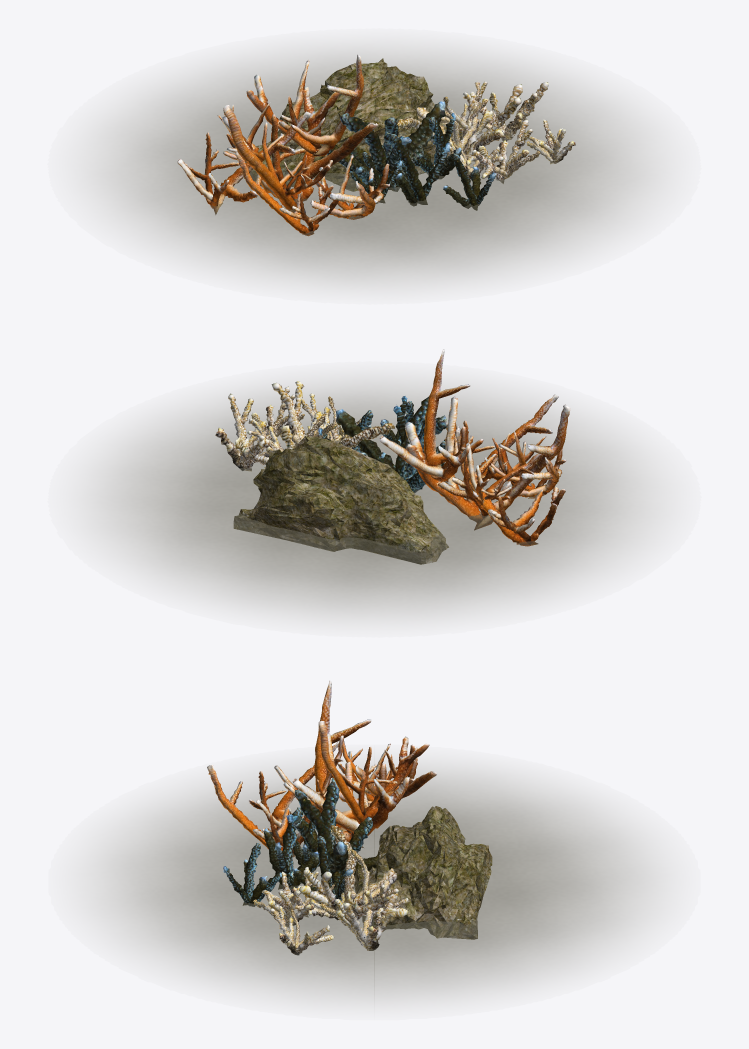
Rendered from acropora-muricata.glb.
The picture shows the model from 3 angles, top to bottom: view 1: azimuth 30°, elevation 25°; view 2: azimuth 150°, elevation 25°; view 3: azimuth 270°, elevation 25°; orthographic projection.
Parts seen in each view (by area): view 1: sand, colony_0, rock_rock3_hi, colony_1, colony_2, colony_3, colony_4, colony_5, colony_6, colony_11, colony_8, colony_7 (+3 smaller); view 2: sand, rock_rock3_hi, colony_0, colony_2, colony_3, colony_1, colony_10, colony_4, colony_5, colony_11, colony_12; view 3: sand, rock_rock3_hi, colony_0, colony_2, colony_1, colony_10, colony_6, colony_4, colony_8, colony_12, colony_5, colony_11 (+2 smaller).
Boxes of the visible parts, box(x1,y1,x2,y2) form: sand: box(96, 49, 652, 283); colony_0: box(217, 54, 377, 212); rock_rock3_hi: box(244, 58, 462, 191); colony_1: box(321, 101, 445, 191); colony_2: box(397, 81, 522, 165); colony_3: box(177, 111, 311, 214); colony_4: box(310, 154, 389, 219); colony_5: box(235, 151, 338, 235); colony_6: box(381, 133, 450, 206); colony_11: box(471, 119, 540, 183); colony_8: box(443, 153, 496, 210); colony_7: box(414, 113, 461, 178); sand: box(96, 382, 652, 616); rock_rock3_hi: box(233, 436, 448, 564); colony_0: box(379, 349, 570, 530); colony_2: box(247, 381, 394, 469); colony_3: box(455, 432, 565, 546); colony_1: box(336, 396, 446, 492); colony_10: box(215, 393, 282, 471); colony_4: box(463, 394, 558, 488); colony_5: box(499, 441, 566, 498); colony_11: box(301, 393, 373, 440); colony_12: box(248, 386, 304, 441); sand: box(96, 760, 652, 1004); rock_rock3_hi: box(354, 806, 492, 939); colony_0: box(274, 680, 436, 847); colony_2: box(294, 825, 408, 925); colony_1: box(286, 777, 378, 883); colony_10: box(320, 893, 398, 950); colony_6: box(264, 807, 319, 889); colony_4: box(207, 765, 316, 856); colony_8: box(223, 843, 281, 906); colony_12: box(270, 906, 334, 955); colony_5: box(249, 741, 339, 830); colony_11: box(253, 871, 313, 927).
Bounding box in the file's own units: 5.2 × 1.25 × 5.2.
8 materials, 8 textured.
